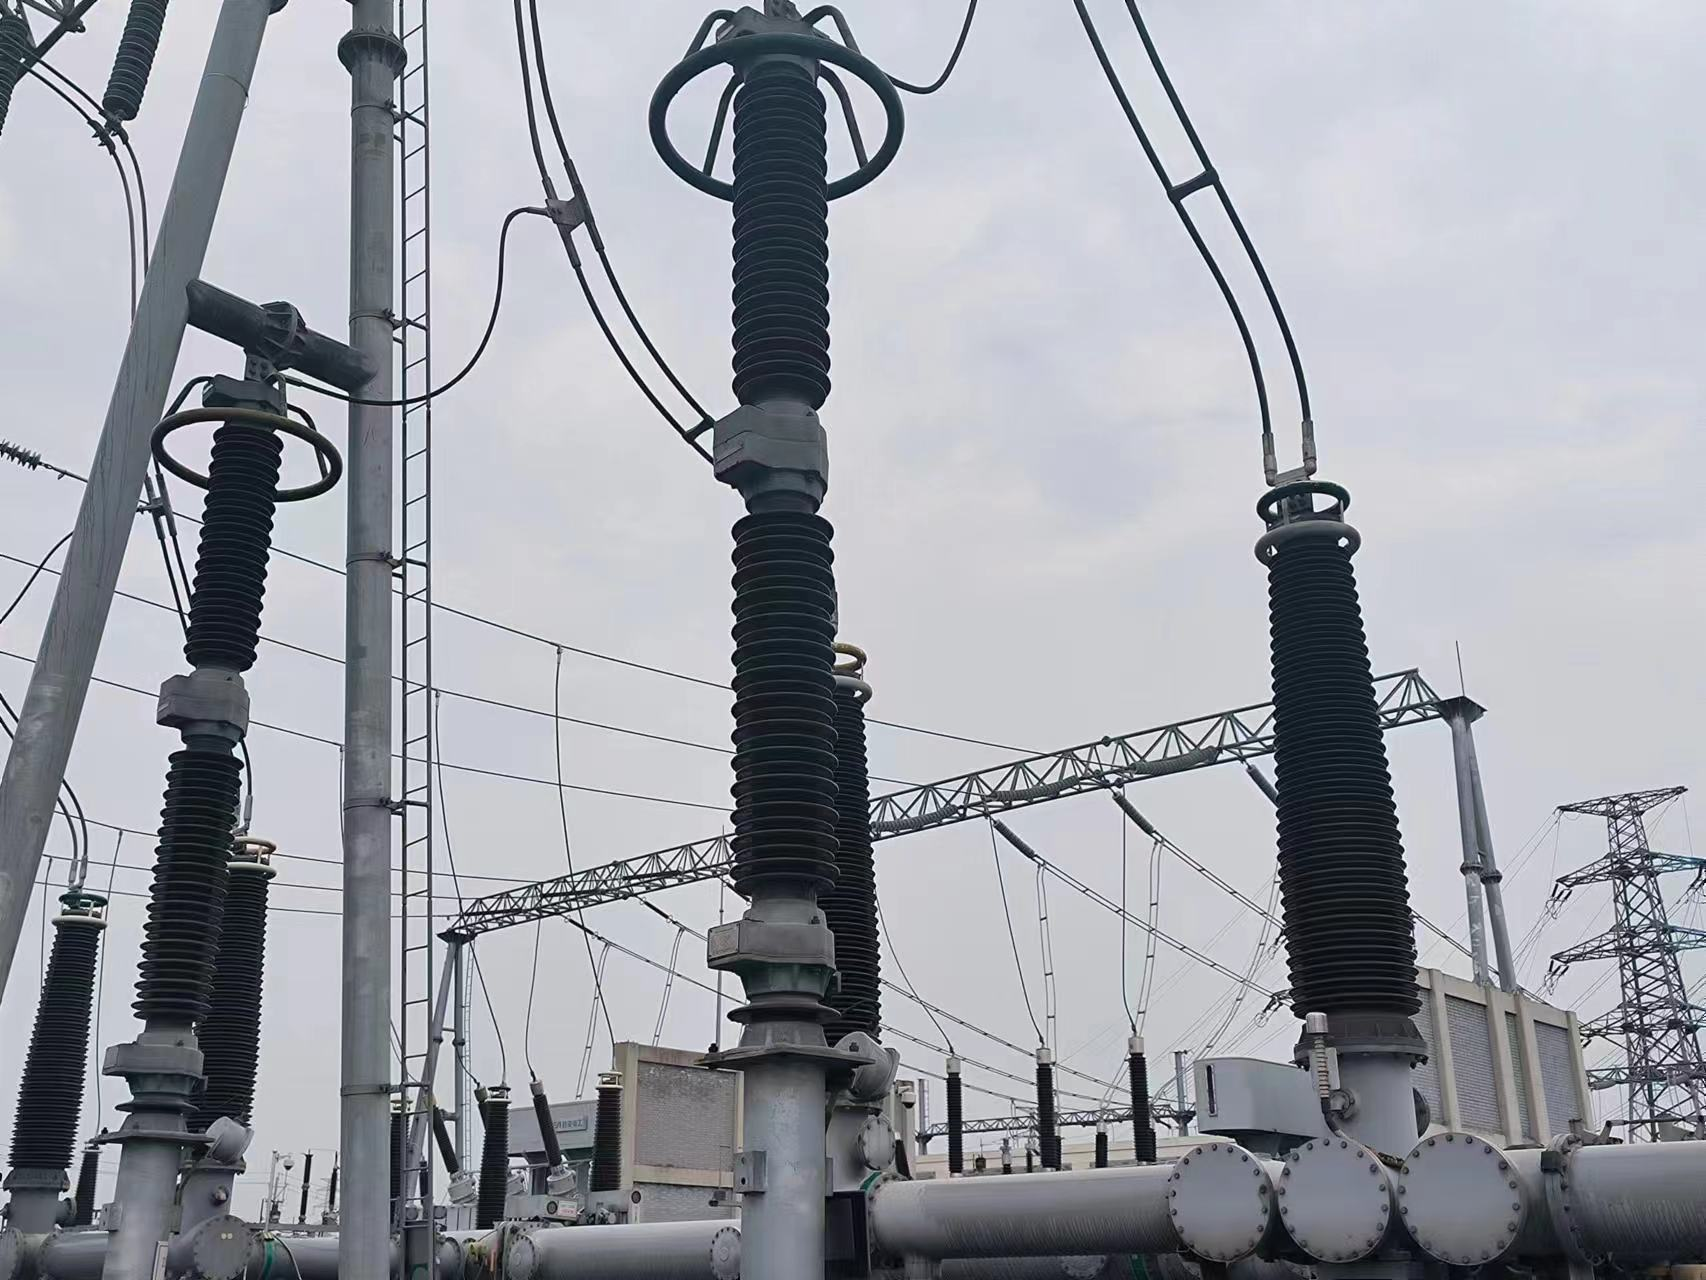Arrester: (648, 7, 909, 920), (129, 355, 346, 1026)
Voltage transformer: (1235, 477, 1438, 1015)
